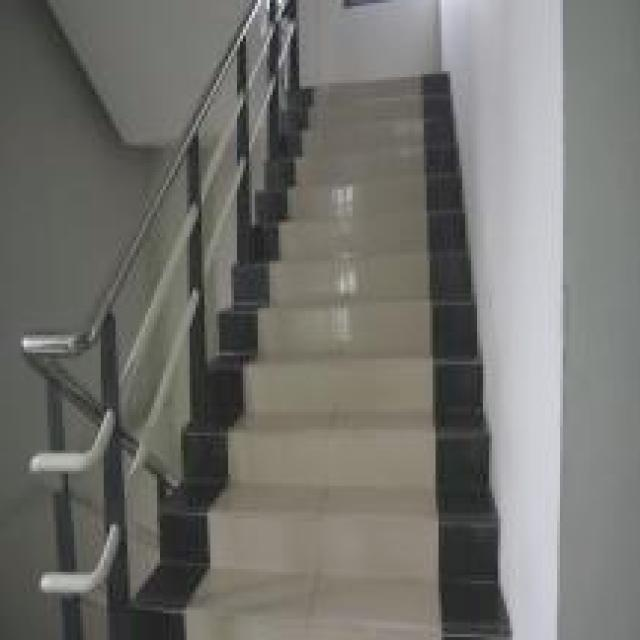upstair: (285, 66, 490, 640)
